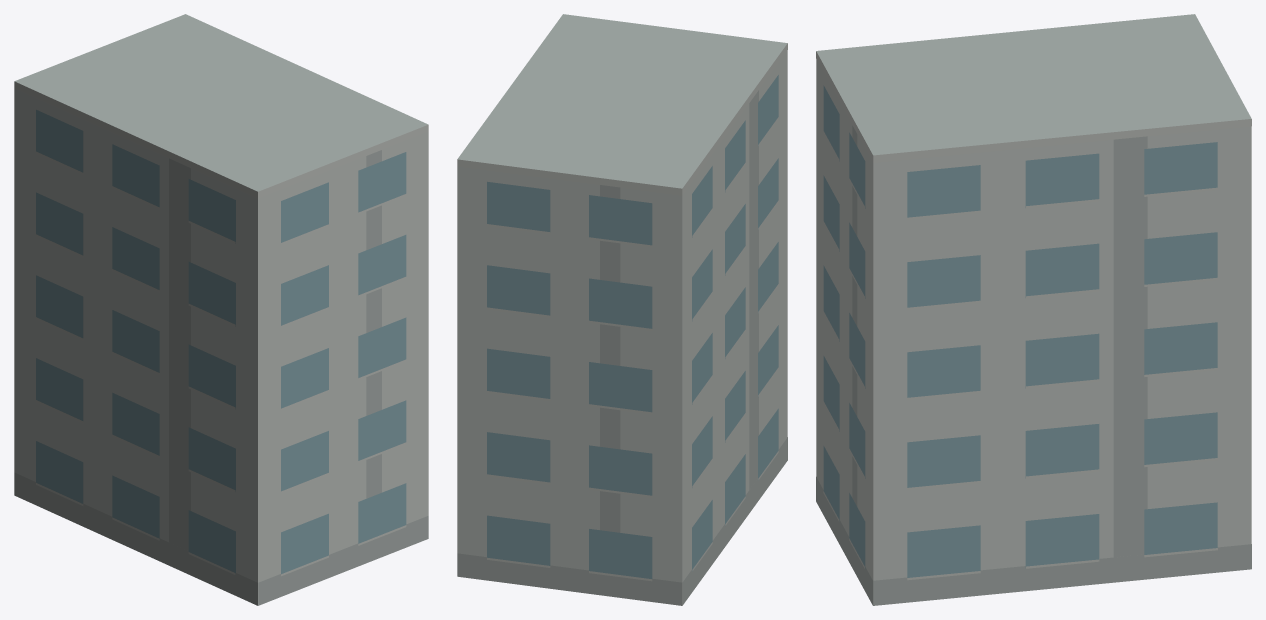
The model's file is survey-upis-32807412.glb.
3 renders of one model, left to right at view 1: azimuth 30°, elevation 25°; view 2: azimuth 150°, elevation 25°; view 3: azimuth 270°, elevation 25°, orthographic. The views are drawn at different scales.
Parts seen in each view (by area): view 1: survey-upis-32807412.tmp; view 2: survey-upis-32807412.tmp; view 3: survey-upis-32807412.tmp.
Part boxes in pixels (bbox=[...]): survey-upis-32807412.tmp: bbox=[14, 14, 428, 605]; survey-upis-32807412.tmp: bbox=[457, 14, 787, 605]; survey-upis-32807412.tmp: bbox=[816, 14, 1251, 605].
Bounding box in the file's own units: 9.91 × 14.7 × 12.9.
